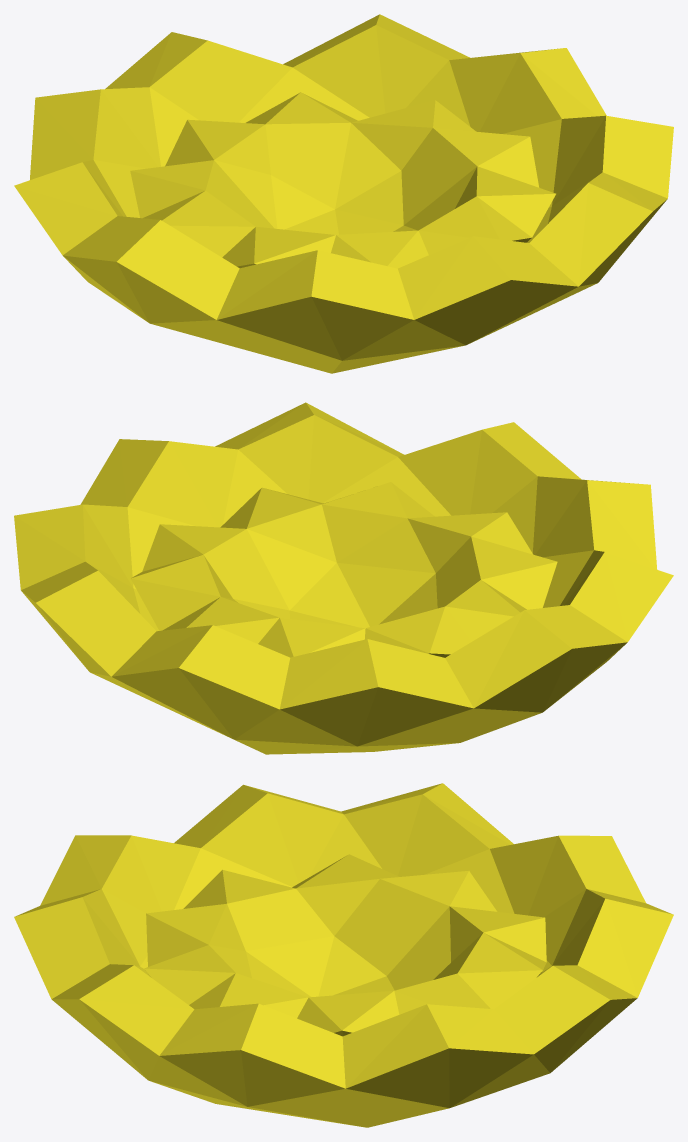
The model's file is Lily Flower_Yellow.fbx.
3 views of the same model, one above another, from view 1: azimuth 30°, elevation 25°; view 2: azimuth 150°, elevation 25°; view 3: azimuth 270°, elevation 25° (orthographic). The views are drawn at different scales.
Parts seen in each view (by area): view 1: Icosphere.002; view 2: Icosphere.002; view 3: Icosphere.002.
Boxes of the visible parts, x1,y1,x2,y2 form: Icosphere.002: (14,14,673,373); Icosphere.002: (14,402,673,754); Icosphere.002: (14,783,673,1127).
Bounding box in the file's own units: 87.37 × 28.71 × 91.19.
